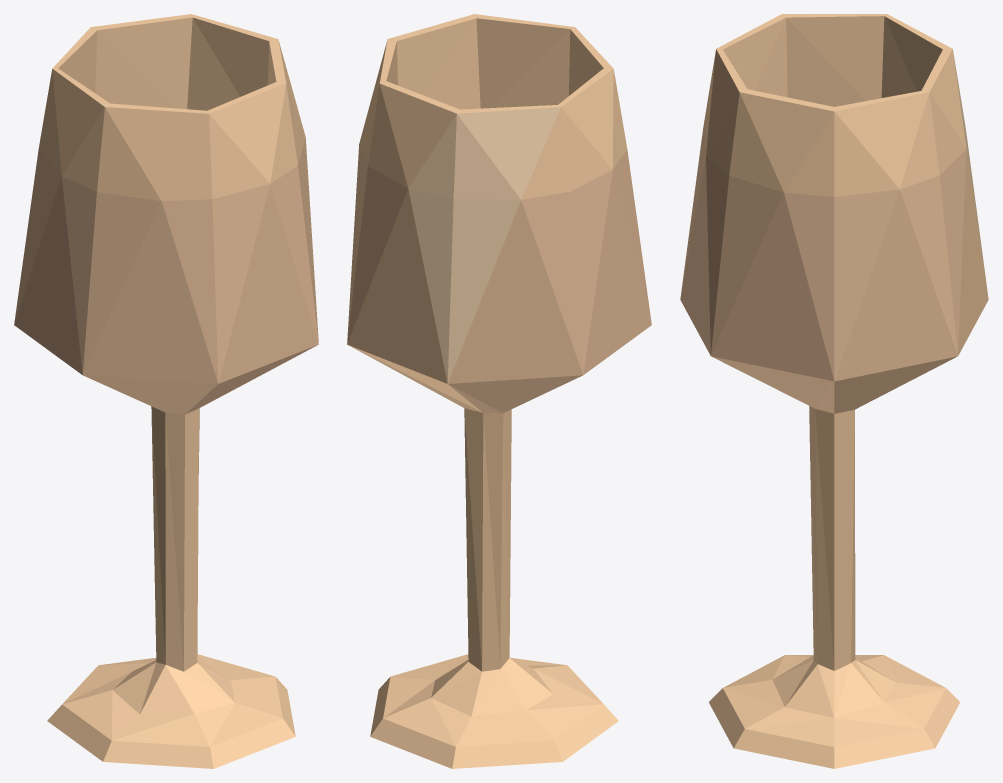
Rendered from glass_customer.fbx.
The picture shows the model from 3 angles, left to right: view 1: azimuth 30°, elevation 25°; view 2: azimuth 150°, elevation 25°; view 3: azimuth 270°, elevation 25°; orthographic projection.
Parts seen in each view (by area): view 1: glass_customer; view 2: glass_customer; view 3: glass_customer.
Boxes of the visible parts, <box> form: glass_customer: <box>14,14,318,768</box>; glass_customer: <box>347,14,651,768</box>; glass_customer: <box>680,14,988,768</box>.
Size of the model in its own units: 9.46 by 22.69 by 9.71.
